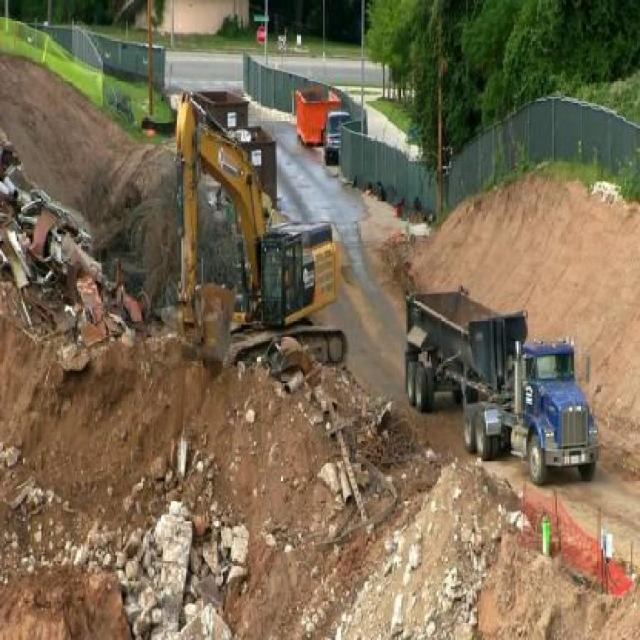Dump Truck: (402, 277, 598, 483)
Excavator: (172, 85, 350, 383)
